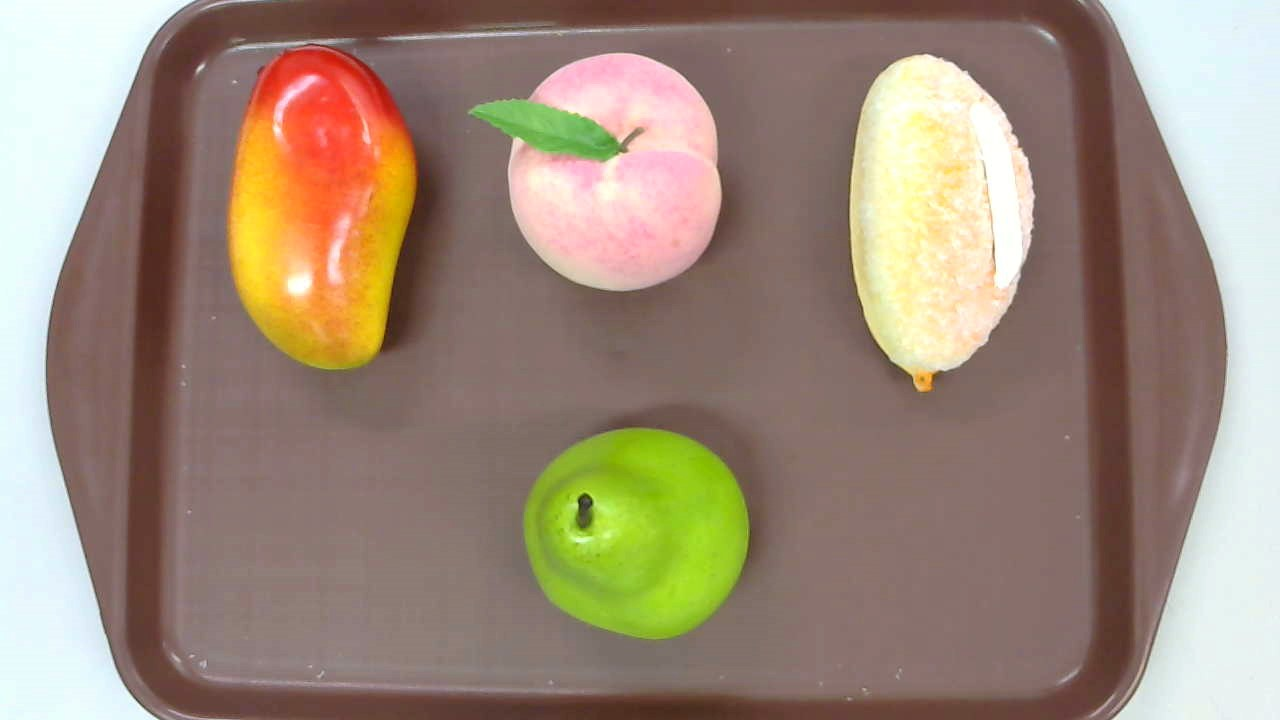coconut: (849, 53, 1035, 393)
green pear: (521, 427, 749, 640)
peach: (468, 53, 724, 292)
red mango: (228, 45, 416, 371)
